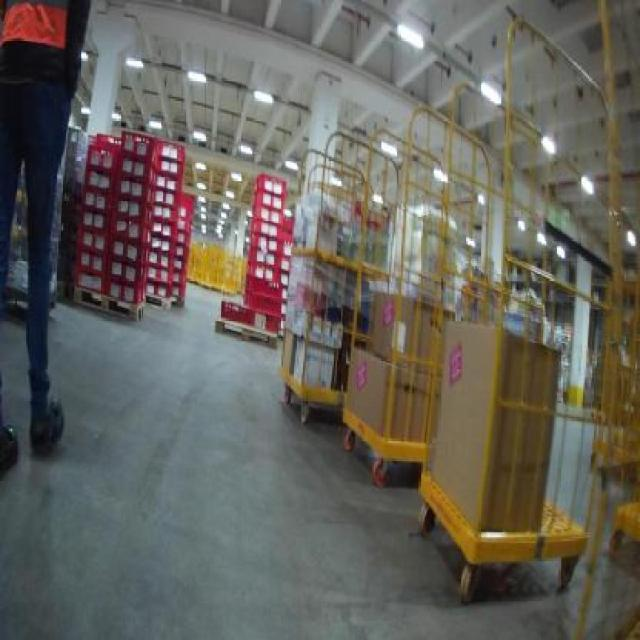ground: (0, 281, 586, 638)
pallet: (408, 467, 597, 609), (338, 401, 432, 486), (277, 362, 350, 431), (70, 283, 148, 326), (210, 312, 279, 348), (146, 288, 181, 310)
